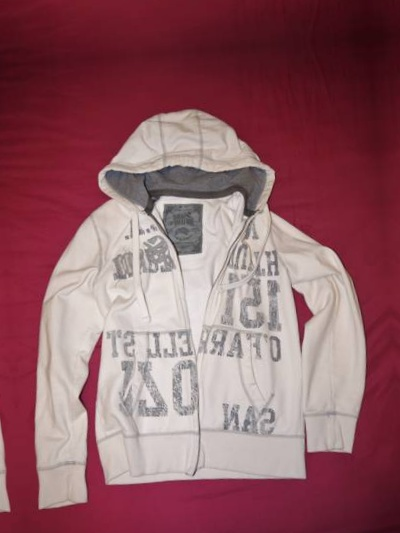Hoodie: (1, 99, 392, 533), (0, 128, 20, 533), (388, 69, 400, 509), (0, 0, 350, 4)
